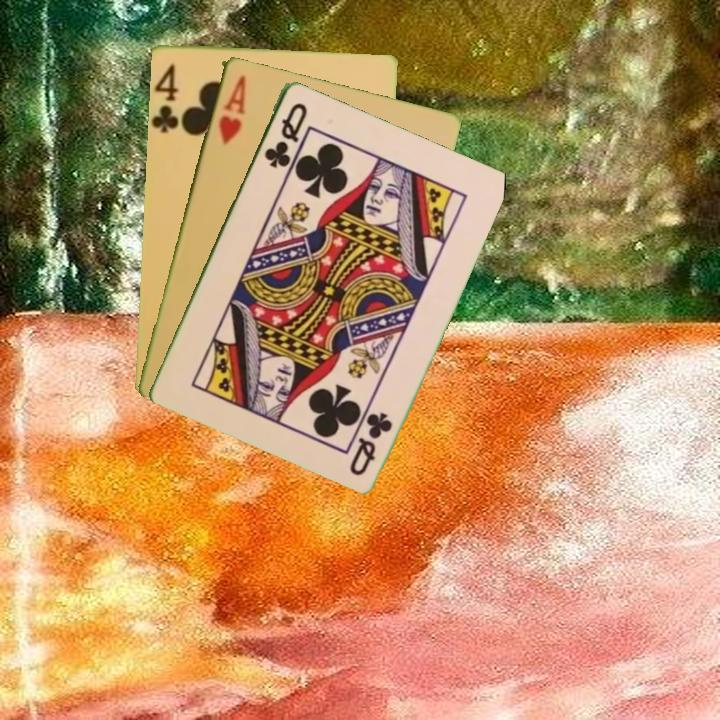4c: (150, 59, 181, 135)
Ah: (214, 71, 249, 148)
Qc: (260, 98, 310, 171), (345, 408, 396, 478)
